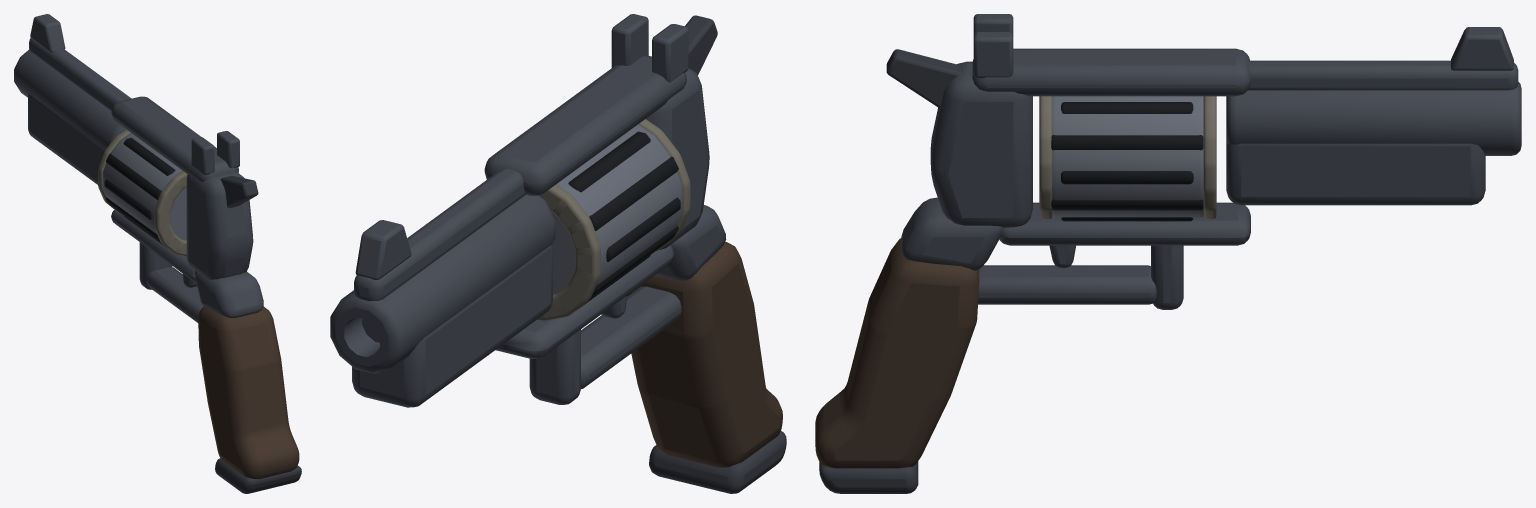
The model's file is w_revolver.glb.
3 views of the same model, side by side, from view 1: azimuth 30°, elevation 25°; view 2: azimuth 150°, elevation 25°; view 3: azimuth 270°, elevation 25° (orthographic). The views are drawn at different scales.
Parts seen in each view (by area): view 1: body_wzA, grip_wzA, cylinder_wzB, sight_wzN, cylinder_wzN, cylinder_wzN.001, grip_wzN, hammer_wzN; view 2: body_wzA, grip_wzA, cylinder_wzB, sight_wzN, cylinder_wzN, cylinder_wzN.001, grip_wzN, hammer_wzN; view 3: body_wzA, grip_wzA, cylinder_wzB, cylinder_wzN, sight_wzN, cylinder_wzN.001, grip_wzN, hammer_wzN.
Boxes of the visible parts, x1=… form: body_wzA: x1=14, y1=38, x2=263, y2=322; grip_wzA: x1=198, y1=306, x2=299, y2=479; cylinder_wzB: x1=103, y1=133, x2=186, y2=240; sight_wzN: x1=30, y1=14, x2=239, y2=174; cylinder_wzN: x1=104, y1=138, x2=175, y2=248; cylinder_wzN.001: x1=98, y1=129, x2=187, y2=255; grip_wzN: x1=215, y1=458, x2=301, y2=493; hammer_wzN: x1=220, y1=175, x2=258, y2=208; body_wzA: x1=330, y1=55, x2=726, y2=407; grip_wzA: x1=627, y1=241, x2=782, y2=467; cylinder_wzB: x1=551, y1=124, x2=682, y2=294; sight_wzN: x1=355, y1=14, x2=688, y2=280; cylinder_wzN: x1=568, y1=131, x2=680, y2=308; cylinder_wzN.001: x1=537, y1=119, x2=690, y2=320; grip_wzN: x1=649, y1=431, x2=786, y2=493; hammer_wzN: x1=685, y1=15, x2=717, y2=75; body_wzA: x1=901, y1=48, x2=1521, y2=309; grip_wzA: x1=815, y1=238, x2=979, y2=468; cylinder_wzB: x1=1052, y1=96, x2=1203, y2=217; cylinder_wzN: x1=1051, y1=102, x2=1203, y2=221; sight_wzN: x1=973, y1=14, x2=1513, y2=78; cylinder_wzN.001: x1=1039, y1=96, x2=1216, y2=219; grip_wzN: x1=819, y1=461, x2=918, y2=493; hammer_wzN: x1=886, y1=49, x2=963, y2=108.
Bounding box in the file's own units: 0.0885 × 0.3035 × 0.4306.
